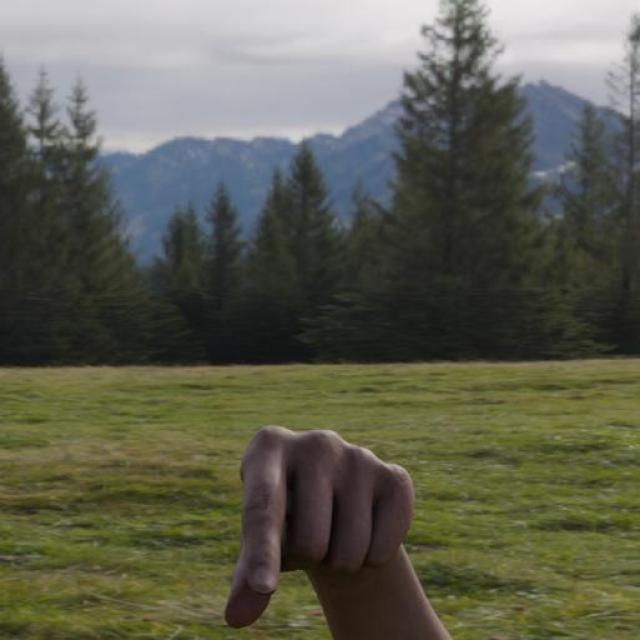Q: (220, 424, 421, 634)
